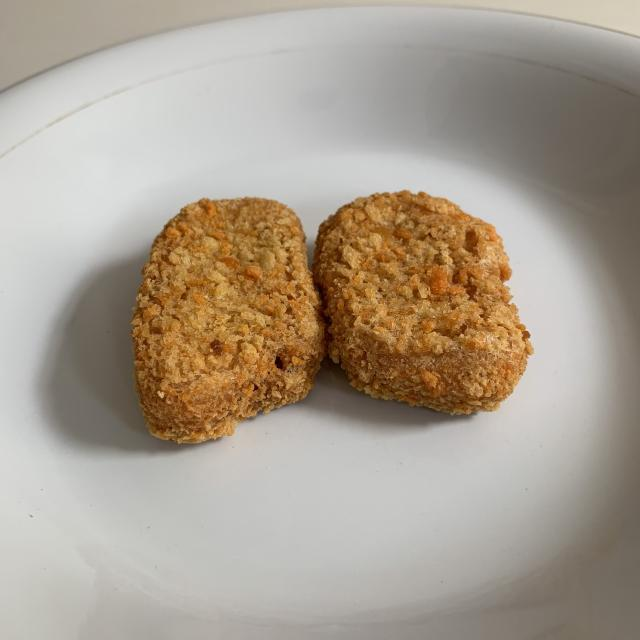Frango: (318, 187, 530, 417), (132, 193, 321, 445)
